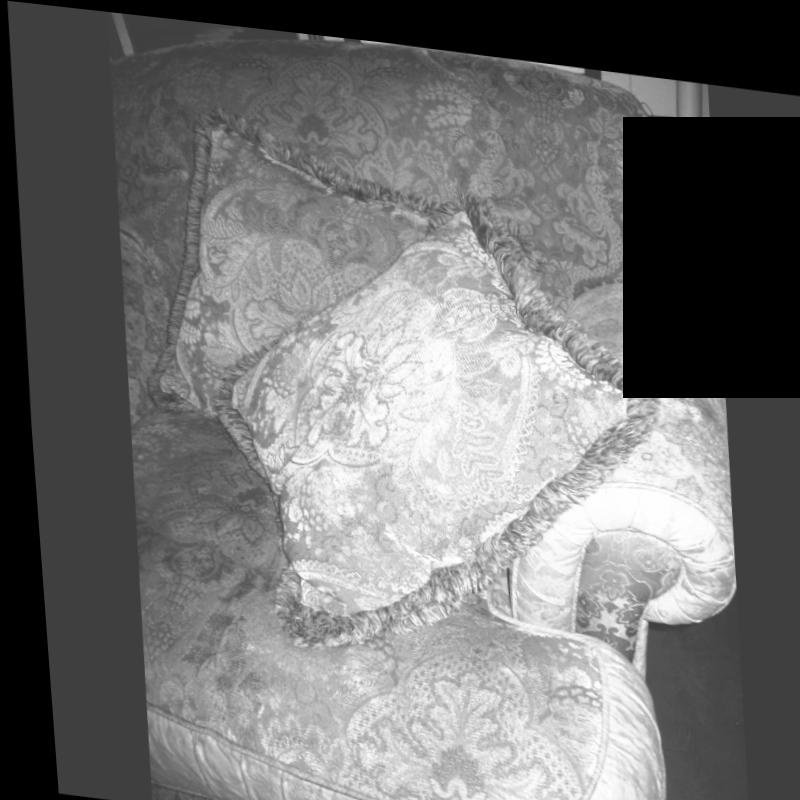pillow: (188, 152, 666, 669), (122, 102, 489, 506)
